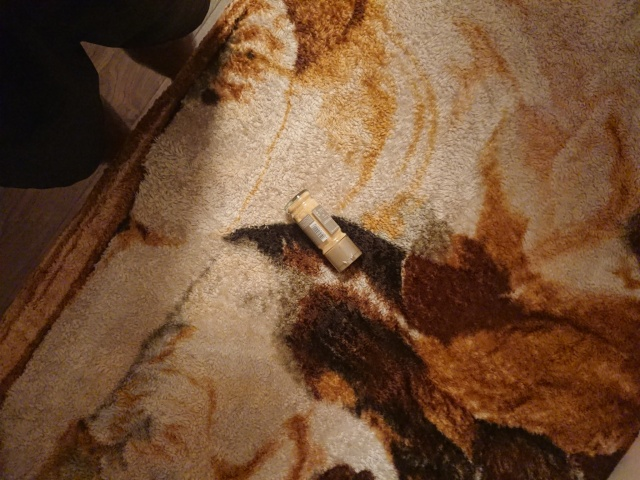Kotanyi Garlic Granules 70g: (284, 186, 365, 276)
